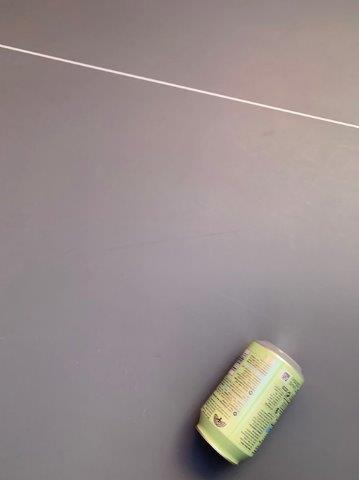kaleng: (194, 338, 305, 467)
